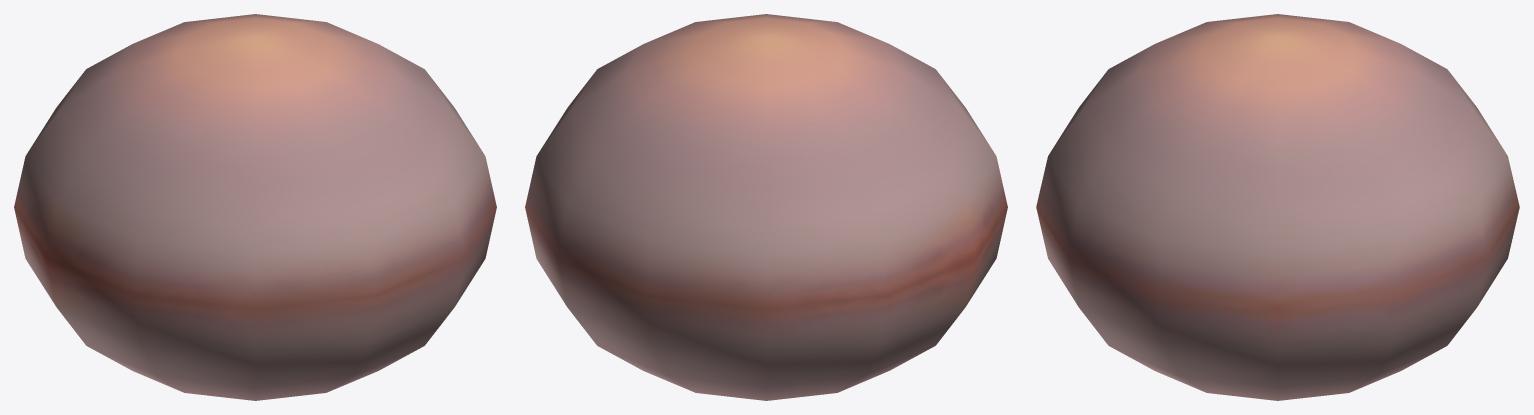
File: env_tat_dunes_jawa_pre.glb
The picture shows the model from 3 angles, left to right: view 1: azimuth 30°, elevation 25°; view 2: azimuth 150°, elevation 25°; view 3: azimuth 270°, elevation 25°; orthographic projection.
Parts seen in each view (by area): view 1: hoth_skybox_01_mesh (1); view 2: hoth_skybox_01_mesh (1); view 3: hoth_skybox_01_mesh (1).
Boxes of the visible parts, box(x1,y1,x2,y2) form: hoth_skybox_01_mesh (1): box(14, 14, 496, 400); hoth_skybox_01_mesh (1): box(525, 14, 1007, 400); hoth_skybox_01_mesh (1): box(1036, 14, 1519, 400).
Size of the model in its own units: 276 by 213 by 276.
14 materials, 14 textured.
